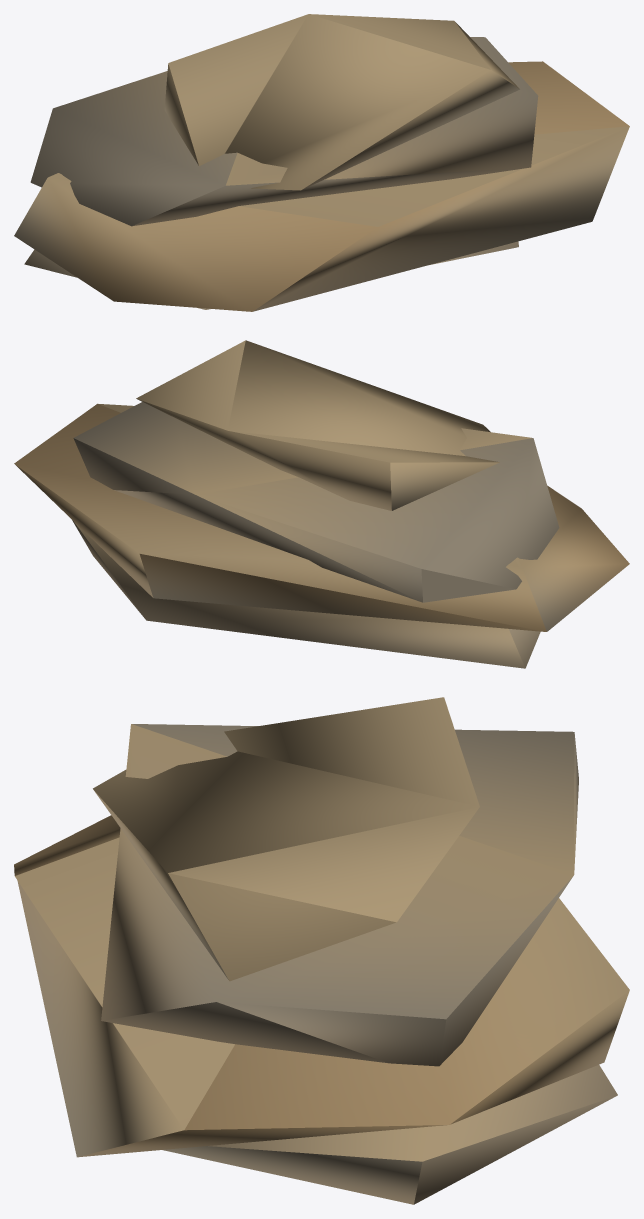
File: r02-far.glb
3 renders of one model, top to bottom at view 1: azimuth 30°, elevation 25°; view 2: azimuth 150°, elevation 25°; view 3: azimuth 270°, elevation 25°, orthographic. The views are drawn at different scales.
Bounding box in the file's own units: 1.12 × 0.36 × 0.72.
